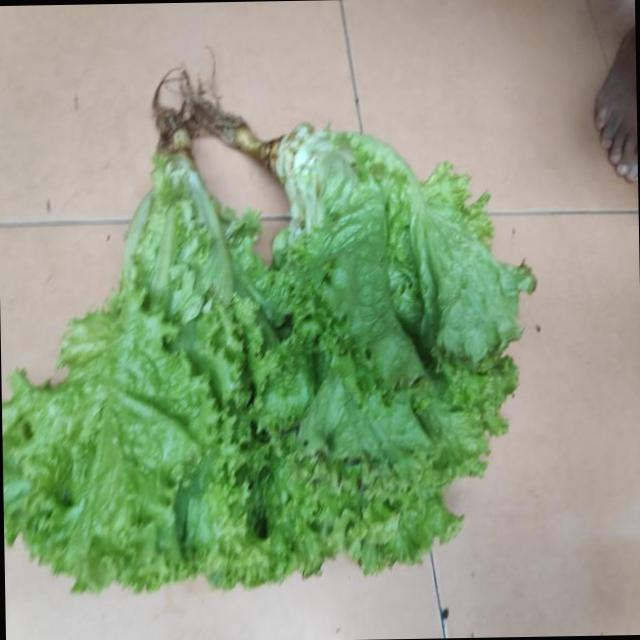Lettuce-Ready-to-Harvest: (1, 131, 320, 590), (258, 125, 534, 572)
